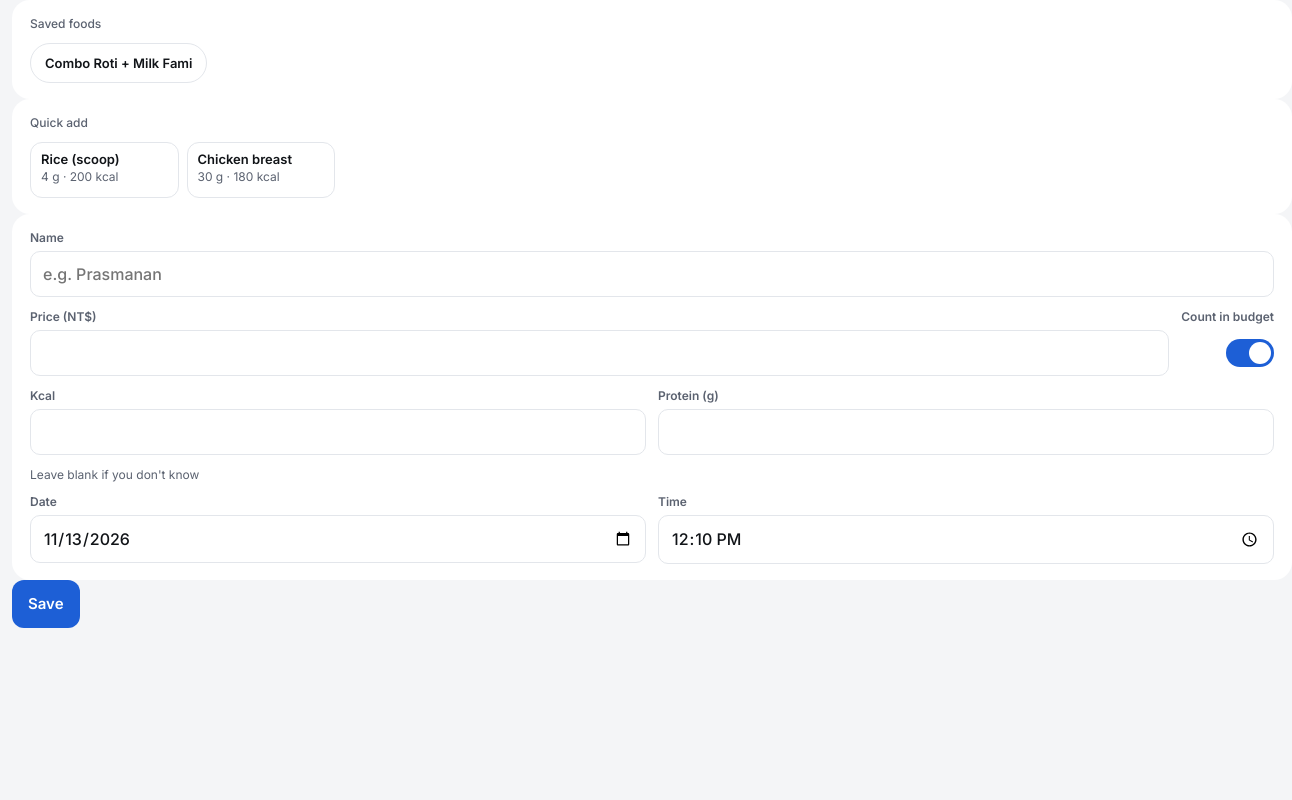
Scenario: a saved food fills name, price, kcal and protein
Step 1. Click the button "Combo Roti + Milk Fami" → [119, 63], box [30, 43, 208, 83]
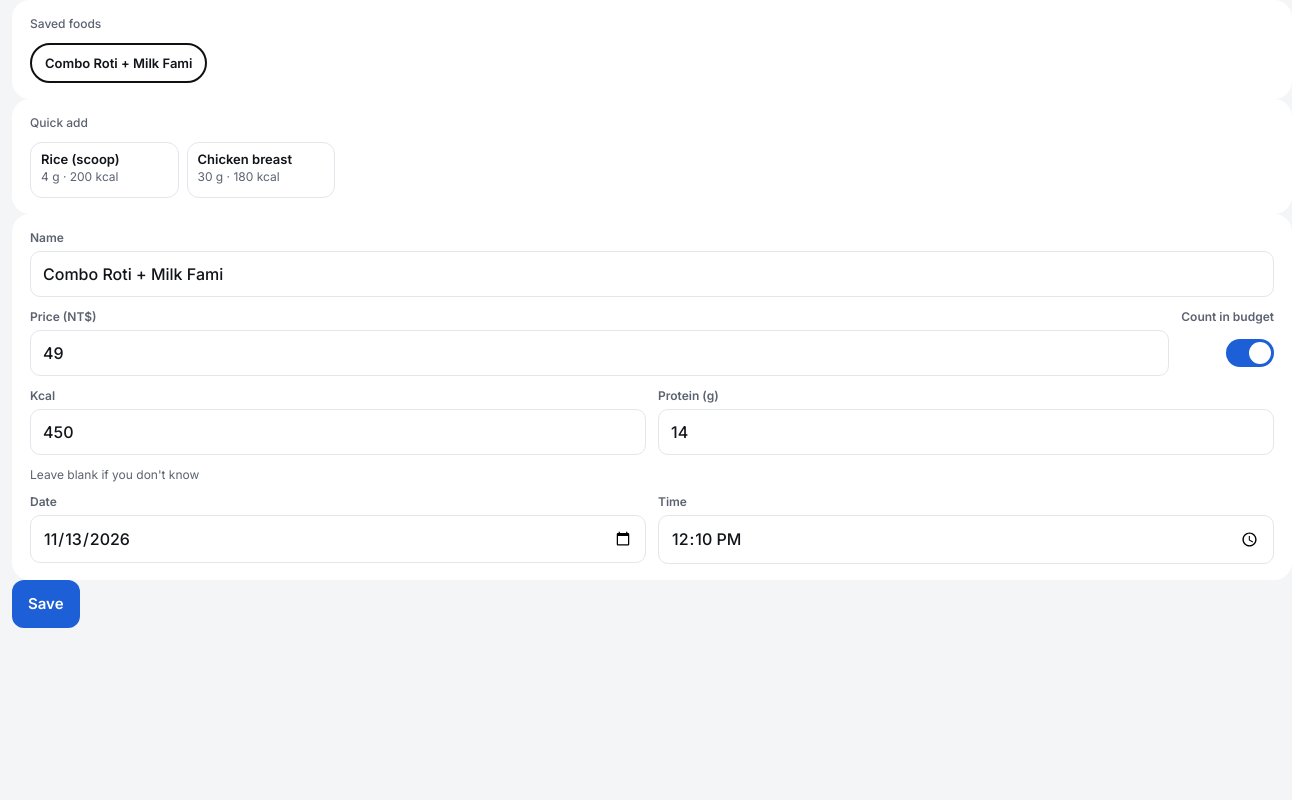
Expected: the field labelled "Name" holds "Combo Roti + Milk Fami", [30, 251, 1274, 297]
Expected: the field labelled "Price (NT$)" holds "49", [30, 330, 1169, 376]
Expected: the field labelled "Kcal" holds "450", [30, 409, 646, 455]
